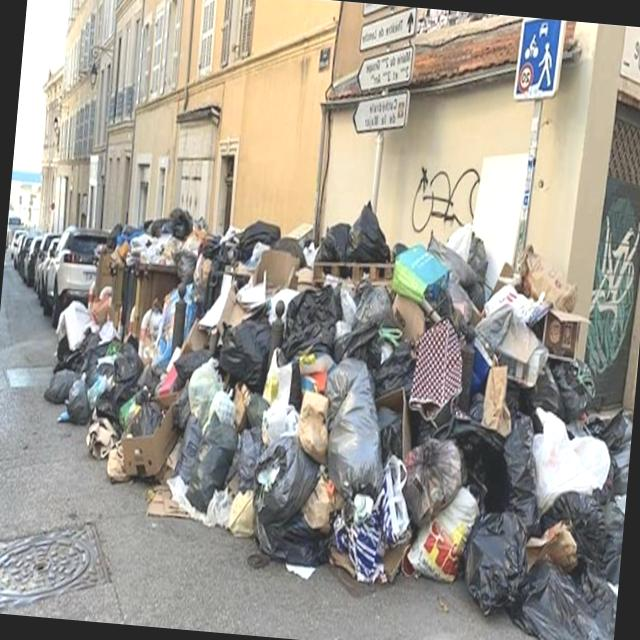garbage: (64, 164, 640, 640)
